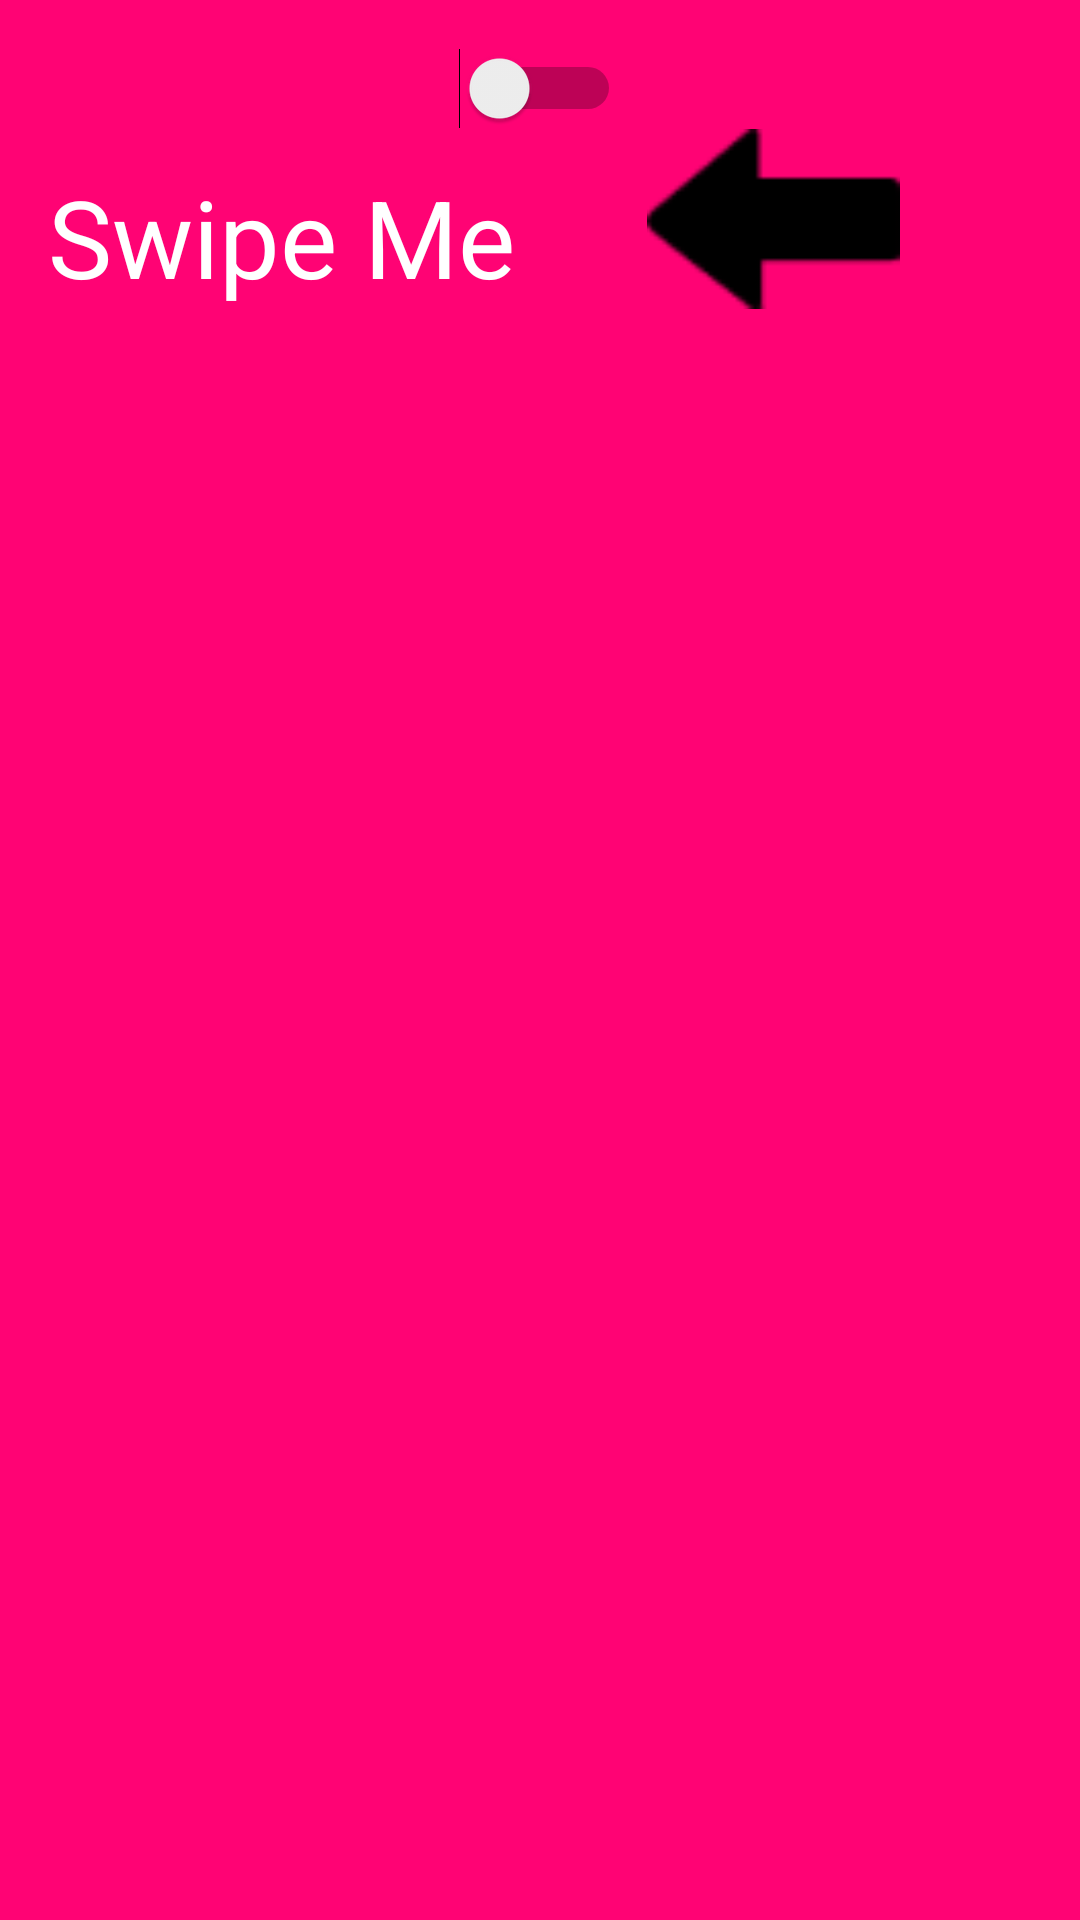

Where icons sit on this 1080 × 1920 app screen, as region(x1, y1, x2, y2):
arrow: region(647, 129, 900, 309)
